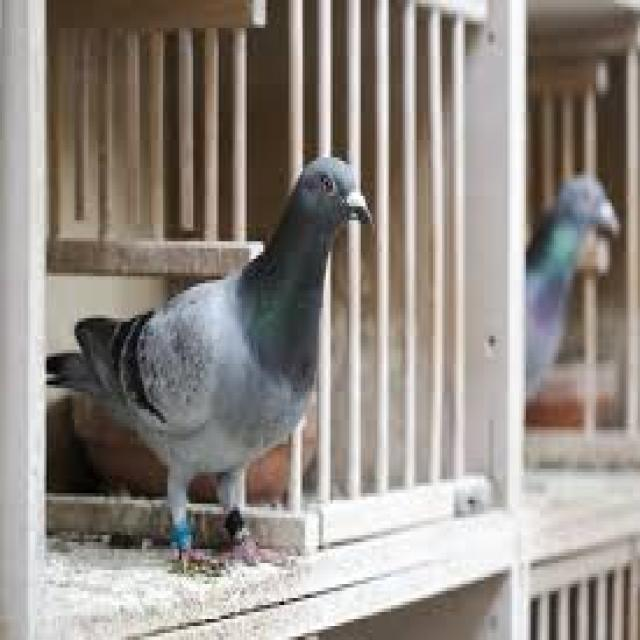pigeon: (36, 140, 384, 587)
